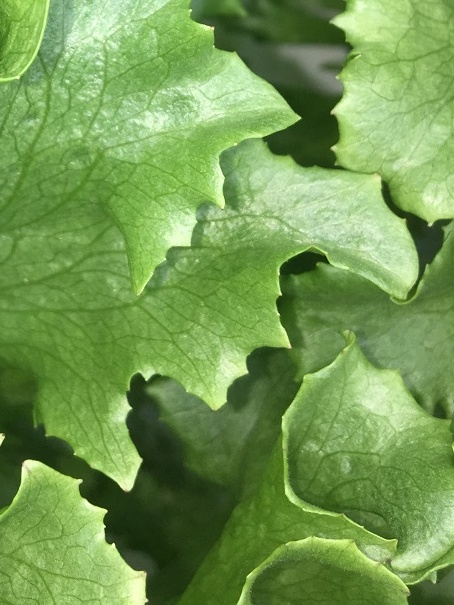tipburn: (280, 335, 297, 354), (135, 564, 152, 581), (214, 197, 230, 215), (341, 324, 357, 340), (208, 401, 223, 417), (382, 554, 397, 570), (334, 506, 349, 521), (335, 345, 350, 360), (119, 482, 135, 496), (205, 21, 219, 35)
